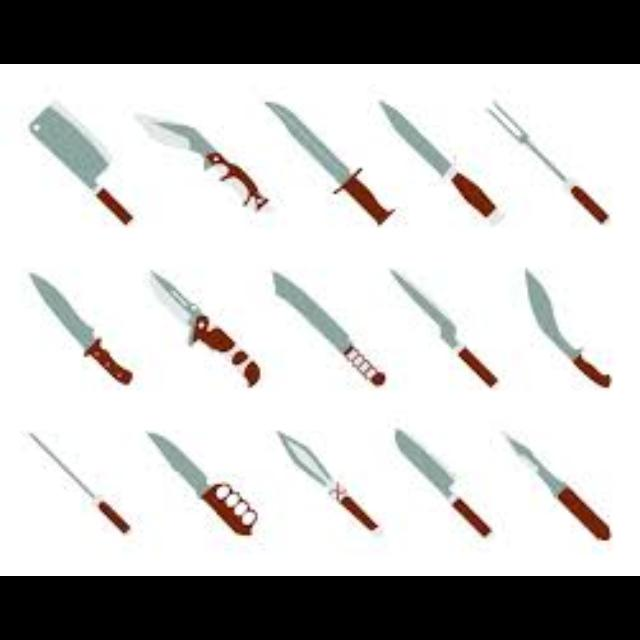knife: (263, 100, 395, 224), (378, 98, 500, 222), (485, 98, 607, 222), (132, 112, 268, 212), (271, 268, 385, 386), (148, 268, 260, 388), (388, 268, 497, 388), (28, 100, 132, 224), (500, 429, 610, 541), (143, 428, 257, 536), (28, 271, 132, 385), (392, 426, 492, 538), (276, 429, 380, 533), (26, 429, 130, 533), (523, 266, 609, 388)
